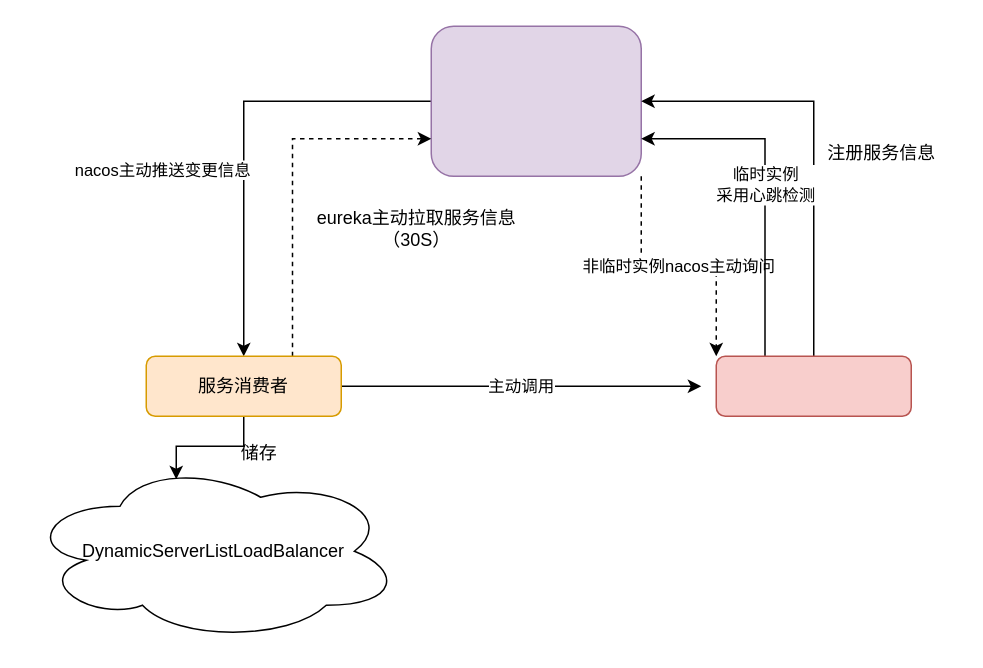
This 983x668 diagram has some shape labels left out. Here are the shapes that lost their labels. From the top down, the centre of each, then its label:
(x=535, y=100): nacos注册中心
(x=813, y=385): 服务提供者
